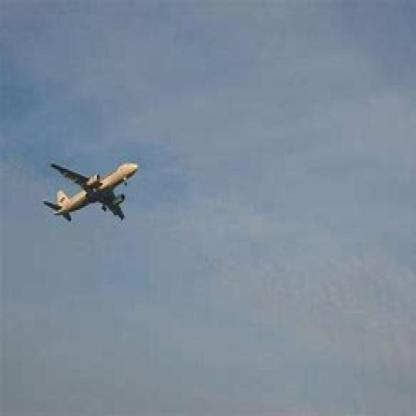plane: (38, 151, 153, 231)
